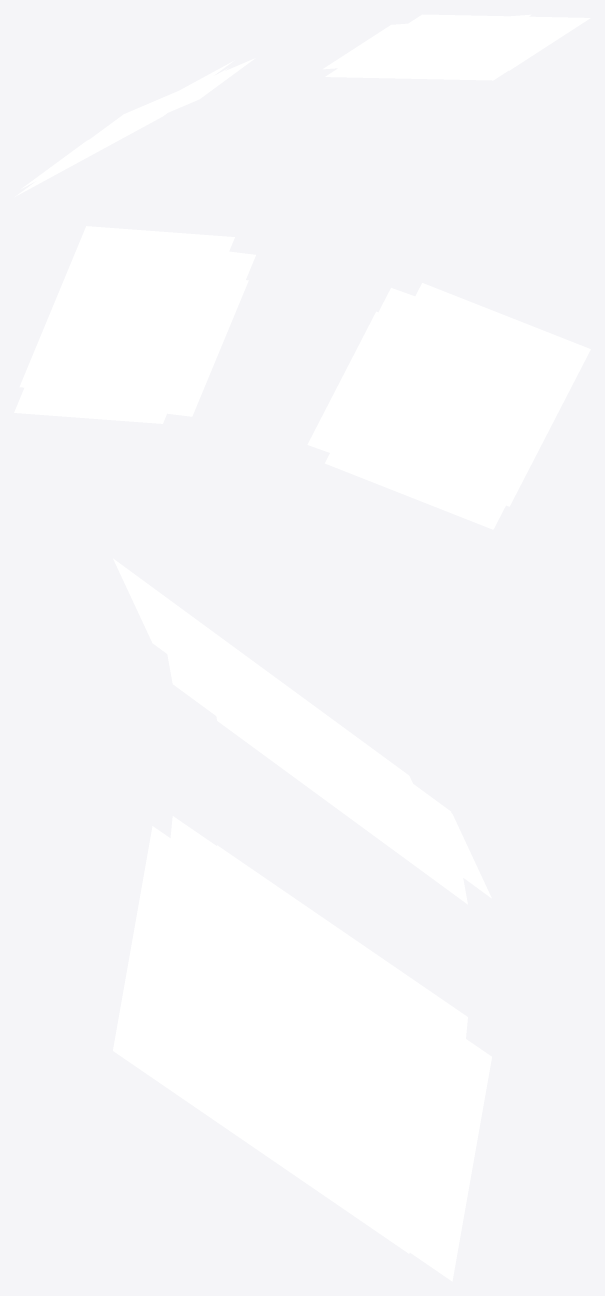
Rendered from Light.gltf.
The picture shows the model from 3 angles, top to bottom: view 1: azimuth 30°, elevation 25°; view 2: azimuth 150°, elevation 25°; view 3: azimuth 270°, elevation 25°; orthographic projection. The views are drawn at different scales.
Parts seen in each view (by area): view 1: Light_Glow; view 2: Light_Glow; view 3: Light_Glow.
Boxes of the visible parts, left/top/right/bottom form: Light_Glow: left=15, top=14, right=590, bottom=196; Light_Glow: left=14, top=226, right=590, bottom=529; Light_Glow: left=113, top=558, right=491, bottom=1281.
Size of the model in its own units: 2.34 by 0.6929 by 0.7605.
Materials: 1 (1 with a texture image).
